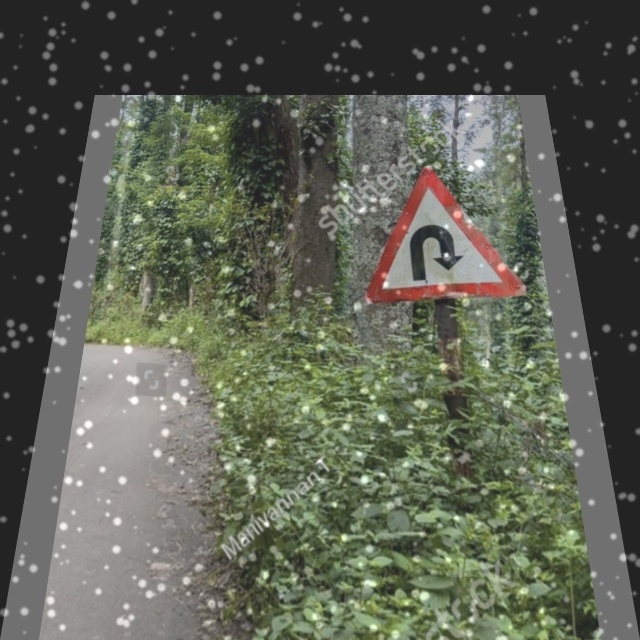Right_Hair_Pin_Bend: (365, 166, 525, 298)
